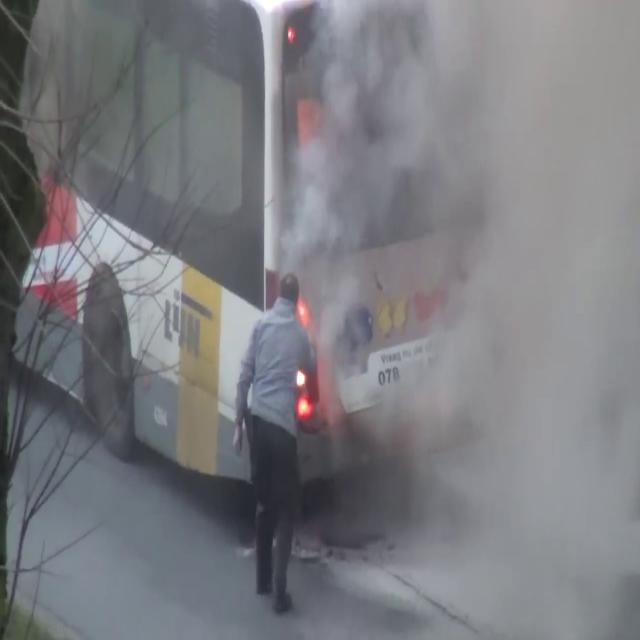Smoke: (279, 0, 640, 578)
